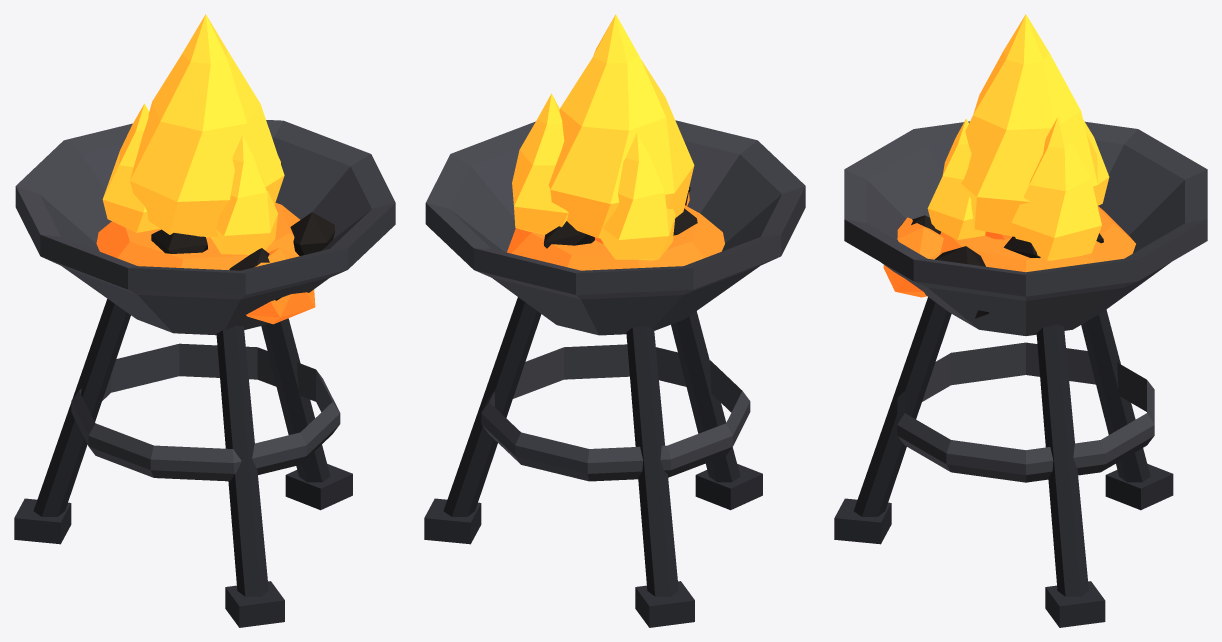
Rendered from env_brazier.glb.
The picture shows the model from 3 angles, left to right: view 1: azimuth 30°, elevation 25°; view 2: azimuth 150°, elevation 25°; view 3: azimuth 270°, elevation 25°; orthographic projection.
Parts seen in each view (by area): view 1: env_brazier; view 2: env_brazier; view 3: env_brazier.
Part boxes in pixels (x1,y1,x2,y2): env_brazier: (14,14,395,627); env_brazier: (424,14,805,627); env_brazier: (834,14,1207,627).
Size of the model in its own units: 0.96 by 1.48 by 0.9379.
